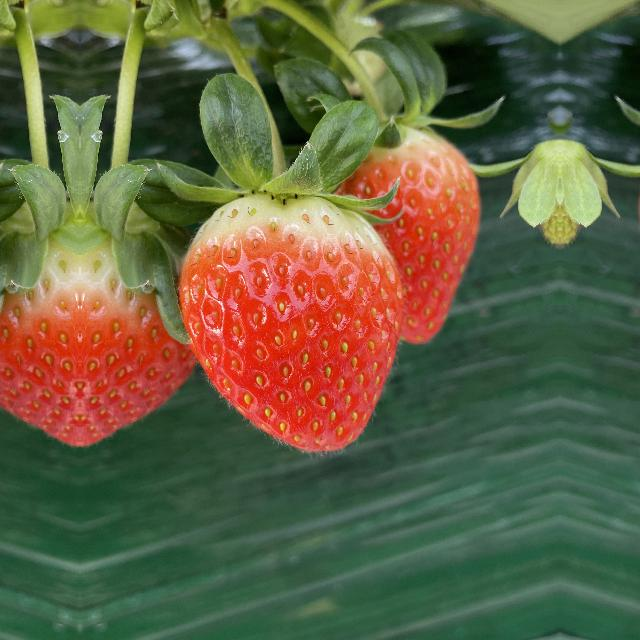Health_100: (170, 182, 418, 460), (330, 123, 476, 357), (80, 180, 194, 474), (0, 179, 80, 474)
